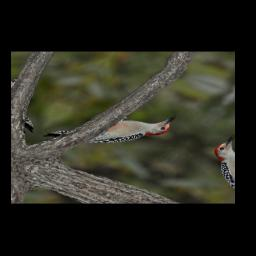Woodpecker: (42, 85, 181, 168)
